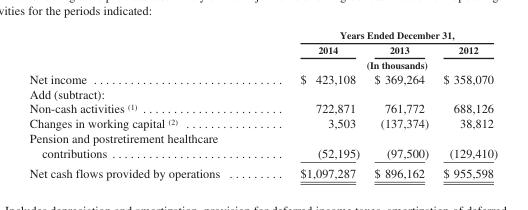table: (28, 29, 497, 179)
table column: (28, 29, 259, 179), (259, 29, 366, 179), (366, 29, 435, 179), (435, 29, 497, 179)
table column header: (28, 29, 497, 70)
table projected row header: (28, 85, 497, 100)
table row: (28, 130, 497, 162), (28, 162, 497, 179), (28, 42, 497, 57), (28, 70, 497, 85), (28, 85, 497, 100), (28, 100, 497, 115), (28, 115, 497, 130), (28, 29, 497, 42), (28, 57, 497, 70)
table spanning cell: (259, 29, 497, 42), (259, 57, 497, 70)
